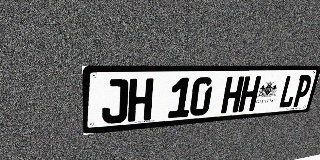0: (189, 77, 214, 116)
1: (168, 77, 193, 118)
H: (128, 78, 154, 122), (221, 76, 245, 114), (238, 76, 261, 112)
J: (102, 79, 129, 124)
L: (277, 75, 300, 108)
P: (291, 75, 313, 107)
